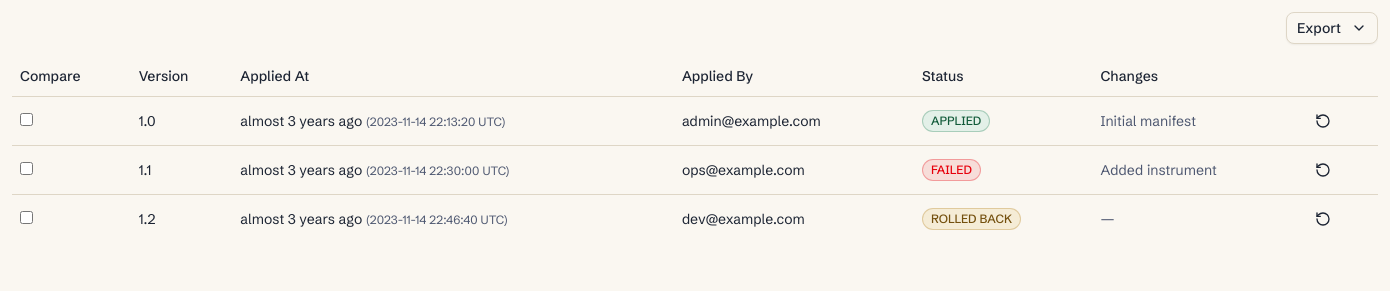
ManifestHistoryTable › enables compare button when exactly 2 versions selected
The width and height of the screenshot is (1390, 291).
Click the checkbox with test id "compare-checkbox-1.0".
click(26, 119)  # box [20, 112, 33, 126]
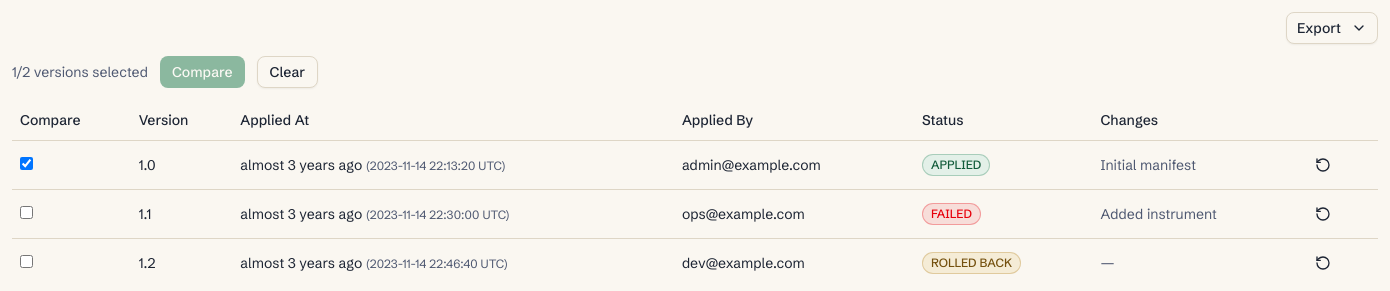
Click the checkbox with test id "compare-checkbox-1.1".
click(26, 212)  # box [20, 206, 33, 218]
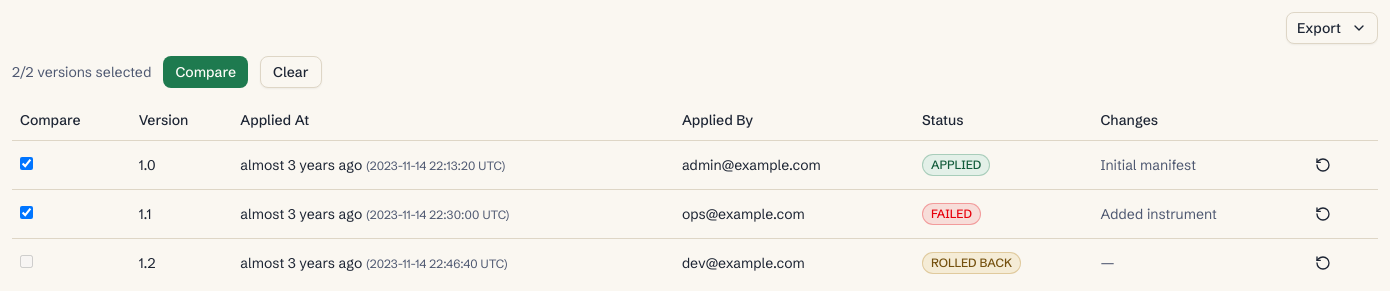
Check: the button with test id "compare-button" is enabled, box [163, 56, 248, 88]
Check: the text "2/2 versions selected" is shown, box [12, 62, 151, 82]
